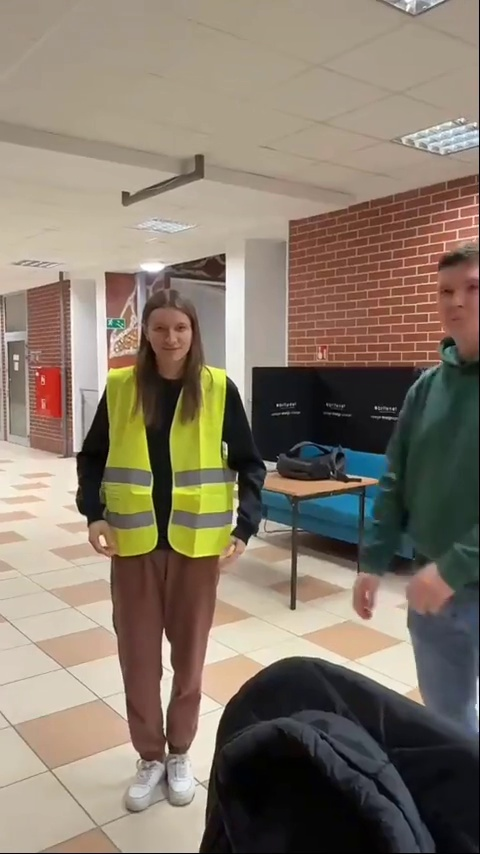no vest: (347, 240, 480, 766)
vest: (80, 297, 274, 808)
